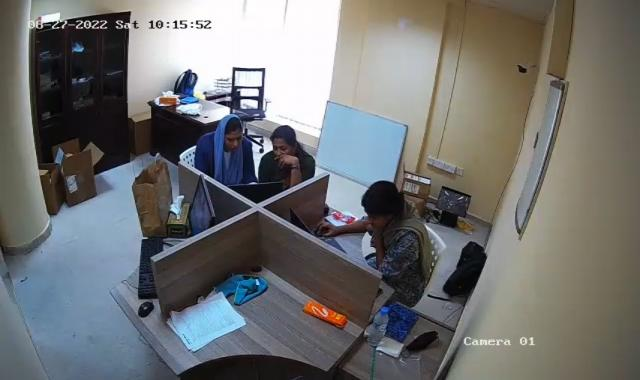no_hairnet: (358, 180, 402, 224), (270, 124, 304, 163), (213, 112, 246, 148)
